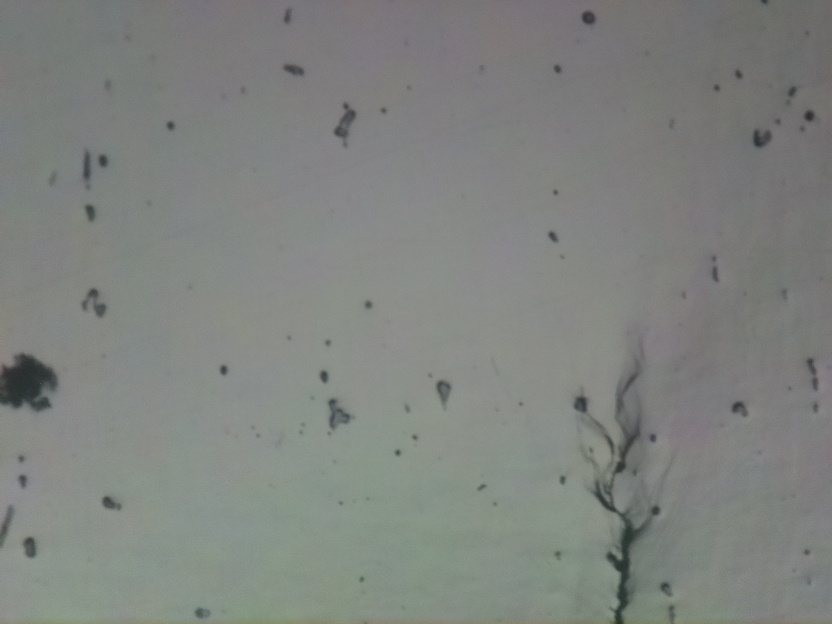crack: (587, 352, 660, 624)
